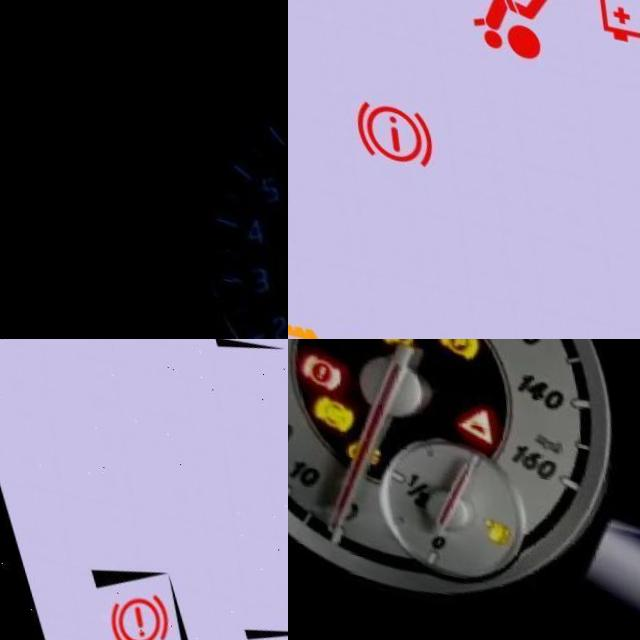Low fuel level: (481, 507, 512, 543)
